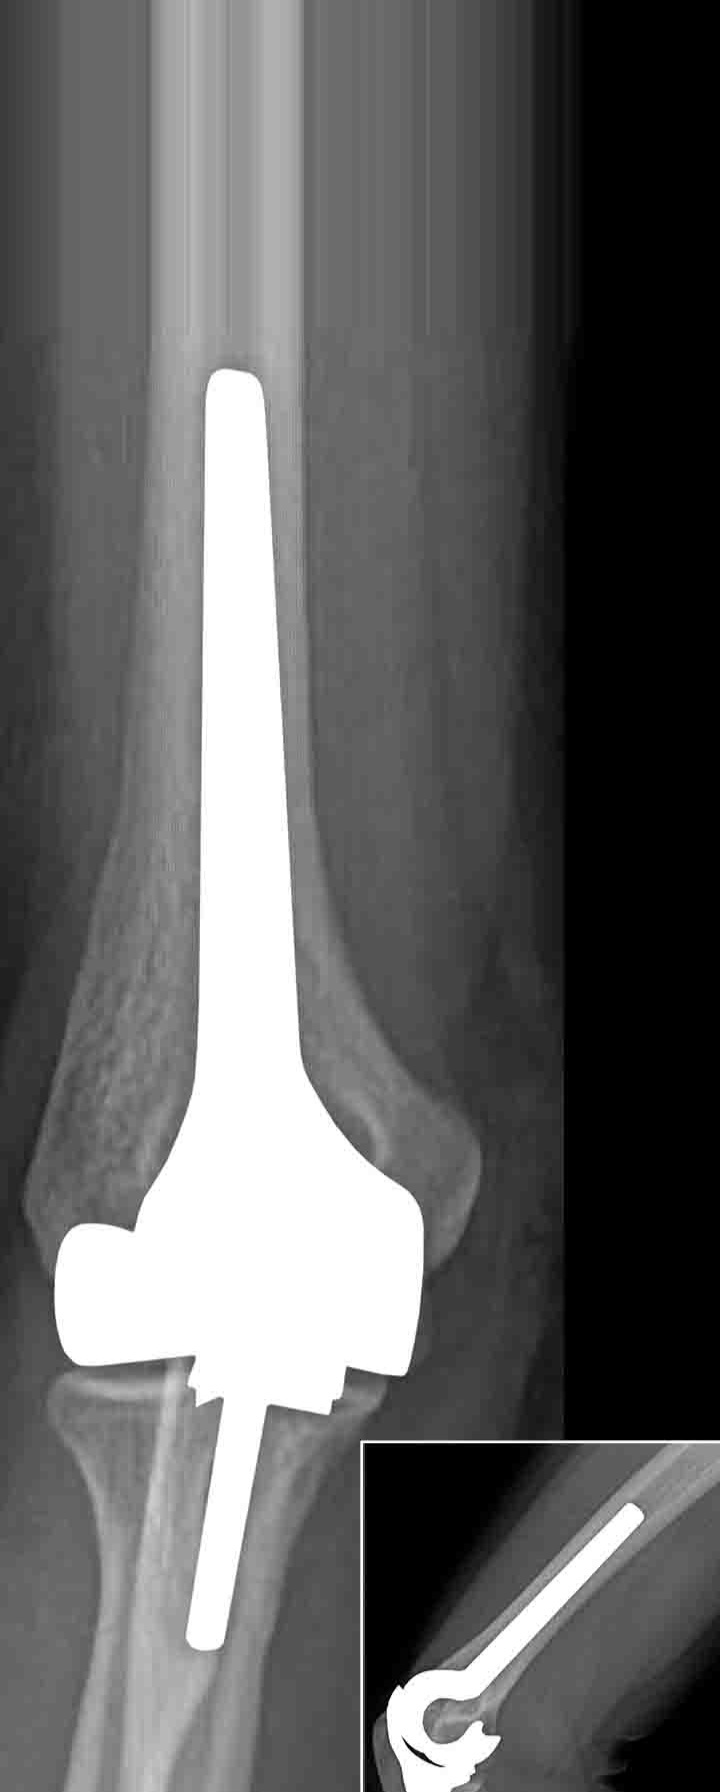Elbow - IBP - Biomet: (15, 359, 447, 1663), (373, 1493, 651, 1792)
